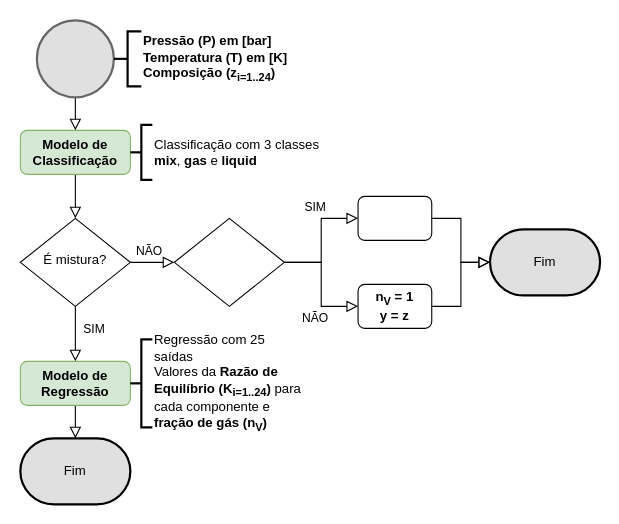
Some shapes in this 619 by 524 pixel diagram are drawn without their labels. The shapes that lost their labels are listed below. From the top down, each one's centre as x and y in pixels, then its label:
At point 74,58: "Início".
At point 394,217: "n L = 1 x = z".
At point 228,261: "É Líquido?".
